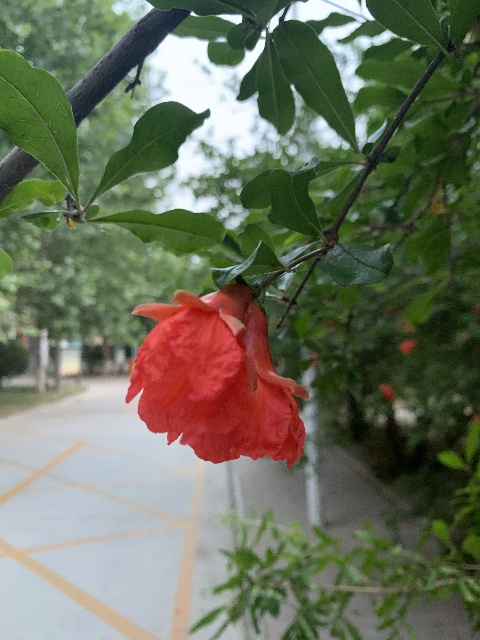flower: (177, 300, 309, 469), (125, 284, 251, 446)
